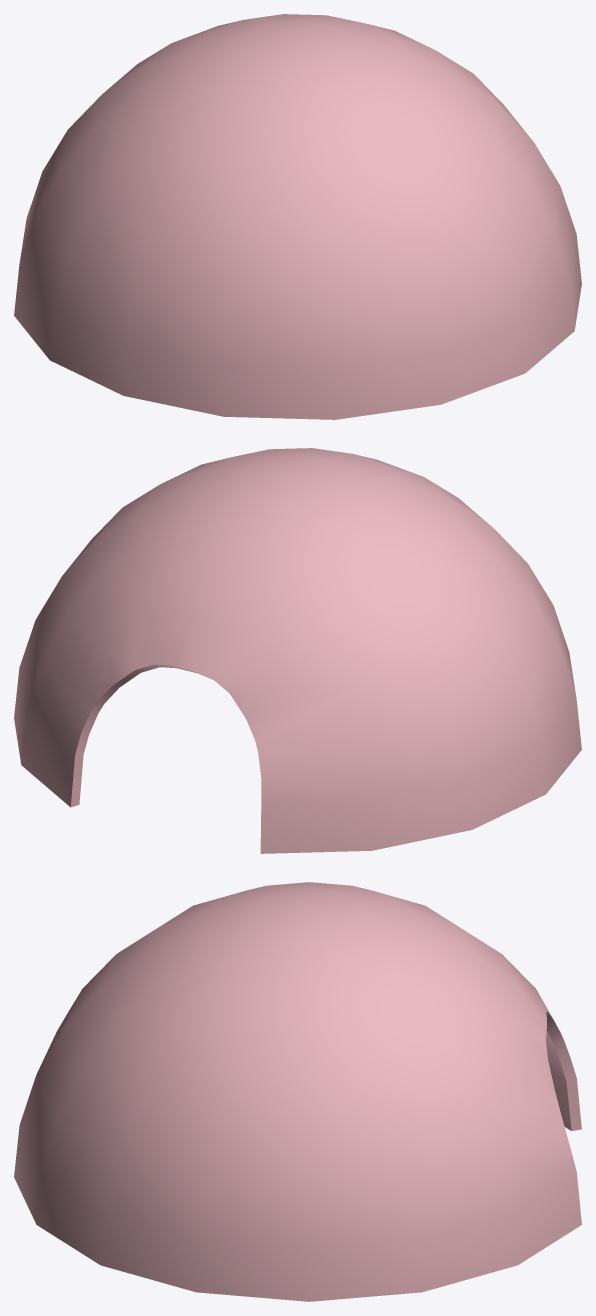
The model's file is Extension_03.fbx.
3 renders of one model, top to bottom at view 1: azimuth 30°, elevation 25°; view 2: azimuth 150°, elevation 25°; view 3: azimuth 270°, elevation 25°, orthographic. The views are drawn at different scales.
Visible parts, largest first — view 1: Extension_03; view 2: Extension_03; view 3: Extension_03.
Boxes of the visible parts, x1=… form: Extension_03: x1=14, y1=14, x2=581, y2=419; Extension_03: x1=14, y1=448, x2=581, y2=853; Extension_03: x1=14, y1=882, x2=581, y2=1301.
Size of the model in its own units: 1560 by 780 by 1500.
